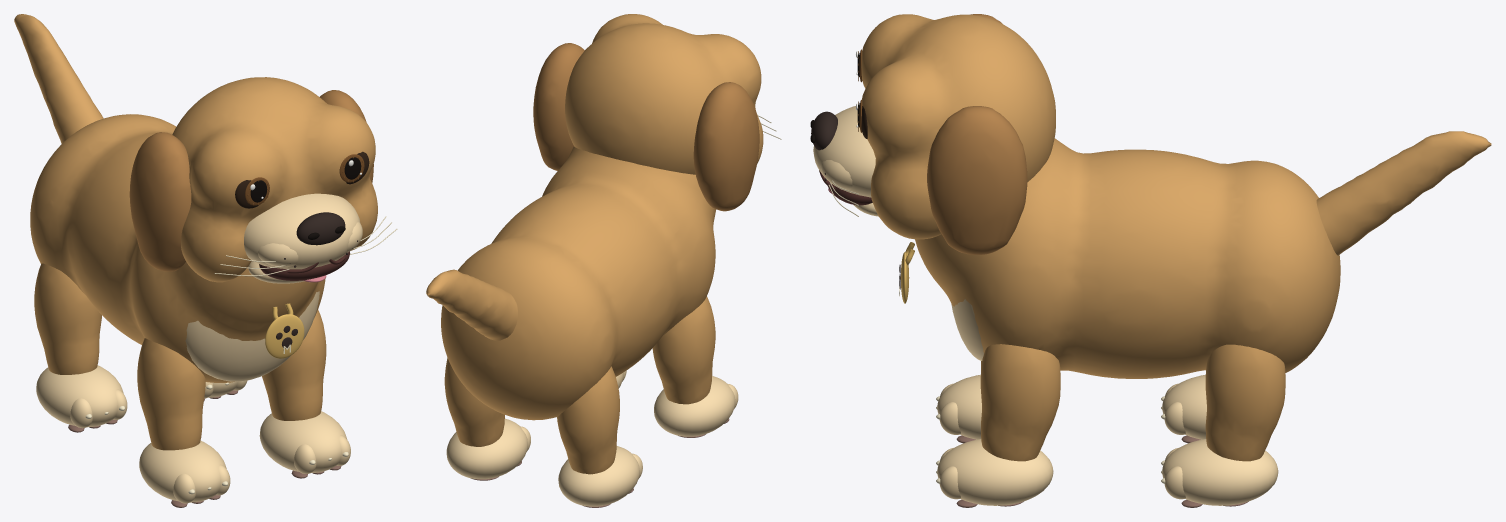
File: puppy-v3.glb
The picture shows the model from 3 angles, left to right: view 1: azimuth 30°, elevation 25°; view 2: azimuth 150°, elevation 25°; view 3: azimuth 270°, elevation 25°; orthographic projection. The views are drawn at different scales.
Visible parts, largest first — view 1: Sculpted coat, Sculpted face, Silky floppy ear, Head Fur champagne, Feathered leg, Feathered leg.001, Feathered tail, FrontL Fur champagne, FrontR Fur champagne, BackL Fur champagne, Feathered leg.002, Chest bib (+6 smaller); view 2: Sculpted coat, Sculpted face, Silky floppy ear, Feathered leg, Feathered leg.001, Feathered tail, Silky floppy ear.001, BackL Fur champagne, BackR Fur champagne, FrontL Fur champagne, Feathered leg.003; view 3: Sculpted coat, Sculpted face, Silky floppy ear.001, Feathered tail, Feathered leg.002, Feathered leg.003, BackR Fur champagne, FrontR Fur champagne, Head Fur champagne, BackL Fur champagne, FrontL Fur champagne, Chest bib (+1 smaller).
Part boxes in pixels (bbox=[...]): Sculpted coat: bbox=[30, 114, 325, 382]; Sculpted face: bbox=[172, 77, 377, 282]; Silky floppy ear: bbox=[129, 132, 191, 271]; Head Fur champagne: bbox=[244, 193, 362, 283]; Feathered leg: bbox=[137, 338, 205, 450]; Feathered leg.001: bbox=[34, 263, 101, 374]; Feathered tail: bbox=[14, 14, 103, 143]; FrontL Fur champagne: bbox=[139, 441, 230, 503]; FrontR Fur champagne: bbox=[259, 411, 350, 473]; BackL Fur champagne: bbox=[36, 365, 127, 428]; Feathered leg.002: bbox=[262, 309, 326, 420]; Chest bib: bbox=[185, 291, 319, 381]; Sculpted coat: bbox=[441, 146, 716, 420]; Sculpted face: bbox=[565, 14, 763, 174]; Silky floppy ear: bbox=[693, 82, 759, 211]; Feathered leg: bbox=[652, 296, 715, 404]; Feathered leg.001: bbox=[557, 366, 619, 474]; Feathered tail: bbox=[426, 269, 517, 340]; Silky floppy ear.001: bbox=[533, 43, 584, 170]; BackL Fur champagne: bbox=[558, 446, 642, 506]; BackR Fur champagne: bbox=[446, 418, 530, 479]; FrontL Fur champagne: bbox=[654, 376, 738, 436]; Feathered leg.003: bbox=[444, 357, 504, 446]; Sculpted coat: bbox=[915, 138, 1340, 378]; Sculpted face: bbox=[861, 14, 1055, 239]; Silky floppy ear.001: bbox=[927, 106, 1027, 254]; Feathered tail: bbox=[1316, 131, 1491, 255]; Feathered leg.002: bbox=[980, 344, 1060, 461]; Feathered leg.003: bbox=[1205, 344, 1285, 461]; BackR Fur champagne: bbox=[1162, 439, 1278, 505]; FrontR Fur champagne: bbox=[937, 439, 1053, 505]; Head Fur champagne: bbox=[813, 106, 878, 216]; BackL Fur champagne: bbox=[1162, 374, 1206, 439]; FrontL Fur champagne: bbox=[937, 374, 981, 439]; Chest bib: bbox=[951, 299, 983, 360].
Bounding box in the file's own units: 0.8176 × 1.4 × 1.95.
